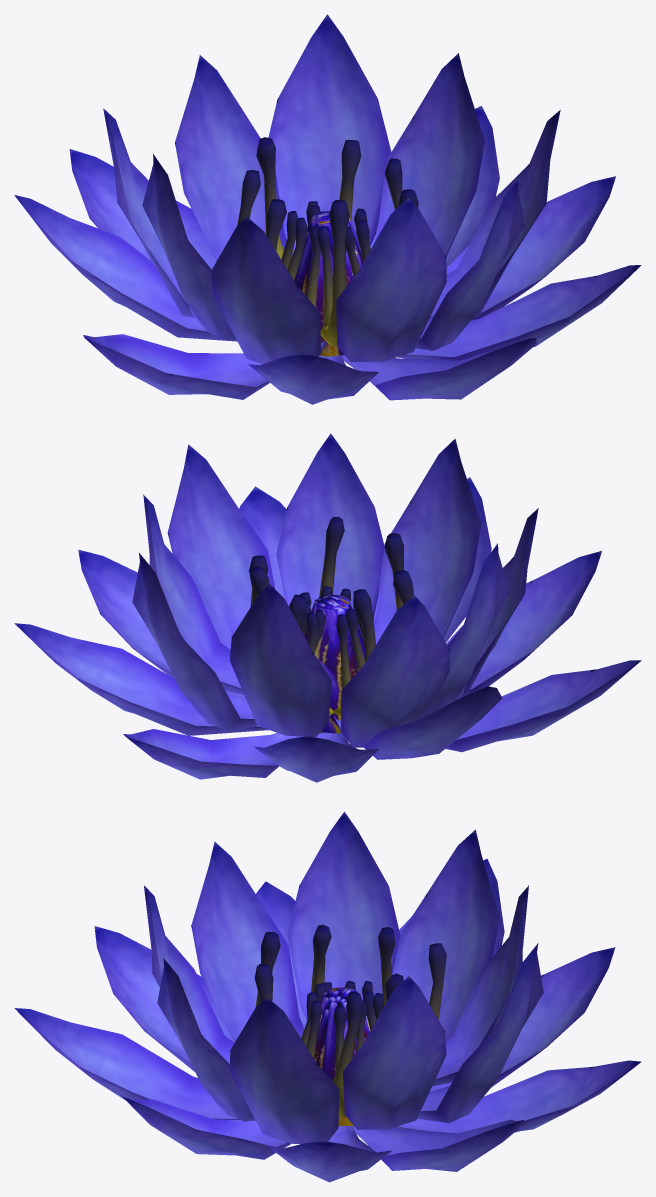
Rendered from Lotus.fbx.
3 renders of one model, top to bottom at view 1: azimuth 30°, elevation 25°; view 2: azimuth 150°, elevation 25°; view 3: azimuth 270°, elevation 25°, orthographic. The views are drawn at different scales.
Parts seen in each view (by area): view 1: Merged; view 2: Merged; view 3: Merged.
Boxes of the visible parts, bbox=[...] form: Merged: bbox=[14, 14, 641, 404]; Merged: bbox=[14, 433, 641, 782]; Merged: bbox=[14, 811, 641, 1182].
Size of the model in its own units: 157 by 64.6 by 159.
